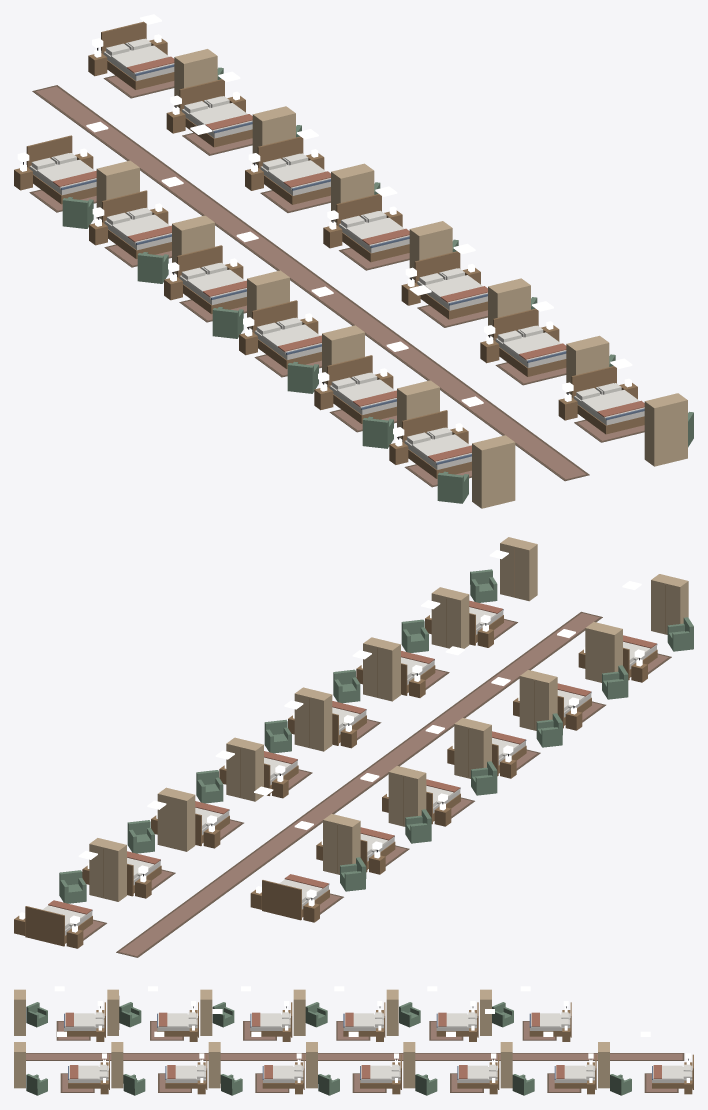
Rendered from fine-s2.glb.
3 renders of one model, top to bottom at view 1: azimuth 30°, elevation 25°; view 2: azimuth 150°, elevation 25°; view 3: azimuth 270°, elevation 25°, orthographic. The views are drawn at different scales.
Parts seen in each view (by area): view 1: soft-s2, dresser.018, dresser.025, bed-frame.024, bed-frame.022, bed-frame.019, bed-frame.025, bed-frame.021, bed-frame.023, bed-frame.013, bed-frame.015, bed-frame.014 (+21 smaller); view 2: soft-s2, dresser.022, dresser.020, dresser.024, dresser.023, dresser.025, dresser.019, dresser.021, dresser.016, dresser.014, dresser.017, dresser.013 (+17 smaller); view 3: soft-s2, dresser.014, dresser.015, dresser.016, dresser.020, dresser.021, dresser.023, dresser.024, dresser.017, dresser.018, dresser.019, dresser.022 (+28 smaller).
Boxes of the visible parts, x1=… form: soft-s2: x1=17, y1=38, x2=644, y2=487; dresser.018: x1=472, y1=435, x2=515, y2=508; dresser.025: x1=644, y1=393, x2=687, y2=466; bed-frame.024: x1=493, y1=308, x2=566, y2=376; bed-frame.022: x1=336, y1=194, x2=409, y2=262; bed-frame.019: x1=101, y1=21, x2=174, y2=89; bed-frame.025: x1=571, y1=366, x2=644, y2=434; bed-frame.021: x1=257, y1=136, x2=330, y2=204; bed-frame.023: x1=414, y1=251, x2=487, y2=319; bed-frame.013: x1=26, y1=135, x2=96, y2=204; bed-frame.015: x1=177, y1=245, x2=246, y2=314; bed-frame.014: x1=102, y1=190, x2=171, y2=259; soft-s2: x1=42, y1=600, x2=671, y2=957; dresser.022: x1=294, y1=687, x2=332, y2=751; dresser.020: x1=157, y1=787, x2=195, y2=851; dresser.024: x1=431, y1=587, x2=469, y2=648; dresser.023: x1=363, y1=637, x2=400, y2=701; dresser.025: x1=500, y1=537, x2=537, y2=601; dresser.019: x1=89, y1=838, x2=126, y2=901; dresser.021: x1=226, y1=737, x2=263, y2=801; dresser.016: x1=519, y1=670, x2=557, y2=730; dresser.014: x1=388, y1=766, x2=426, y2=826; dresser.017: x1=585, y1=622, x2=622, y2=682; dresser.013: x1=323, y1=813, x2=360, y2=874; soft-s2: x1=26, y1=1001, x2=691, y2=1092; dresser.014: x1=386, y1=989, x2=398, y2=1035; dresser.015: x1=293, y1=989, x2=305, y2=1035; dresser.016: x1=200, y1=989, x2=212, y2=1035; dresser.020: x1=500, y1=1042, x2=512, y2=1088; dresser.021: x1=403, y1=1042, x2=415, y2=1088; dresser.023: x1=208, y1=1042, x2=220, y2=1088; dresser.024: x1=111, y1=1042, x2=123, y2=1088; dresser.017: x1=107, y1=989, x2=119, y2=1035; dresser.018: x1=14, y1=989, x2=25, y2=1035; dresser.019: x1=598, y1=1042, x2=609, y2=1088; dresser.022: x1=306, y1=1042, x2=317, y2=1088.
Size of the model in its own units: 9.18 by 2.54 by 34.01.
